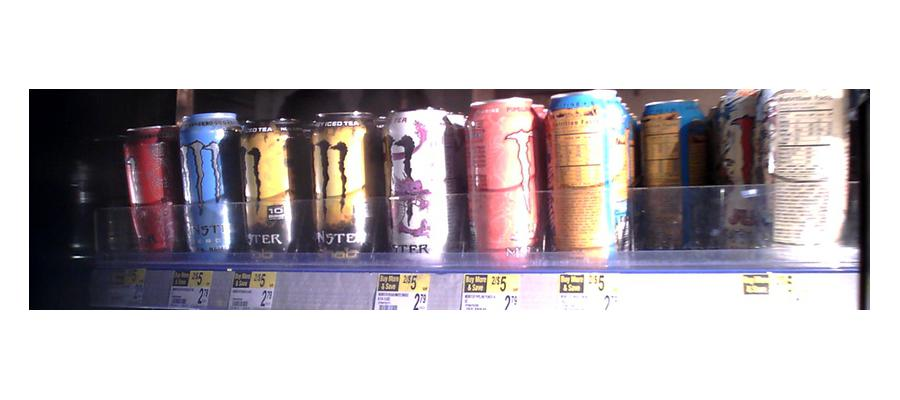bottle: (544, 87, 635, 257), (769, 89, 846, 254), (379, 104, 457, 262), (466, 95, 537, 260), (640, 97, 707, 249), (307, 113, 373, 258), (179, 110, 243, 256), (719, 83, 769, 254), (241, 116, 297, 256), (120, 120, 177, 255)
